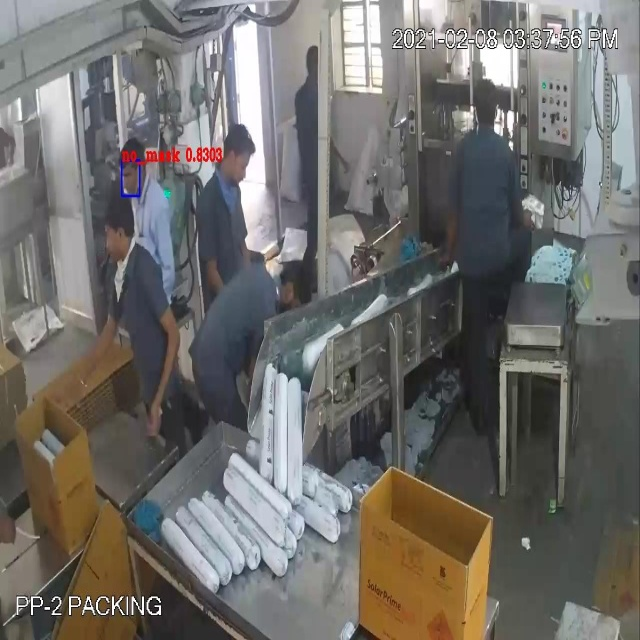Sin_guantes: (146, 297, 182, 436), (72, 307, 123, 377)
